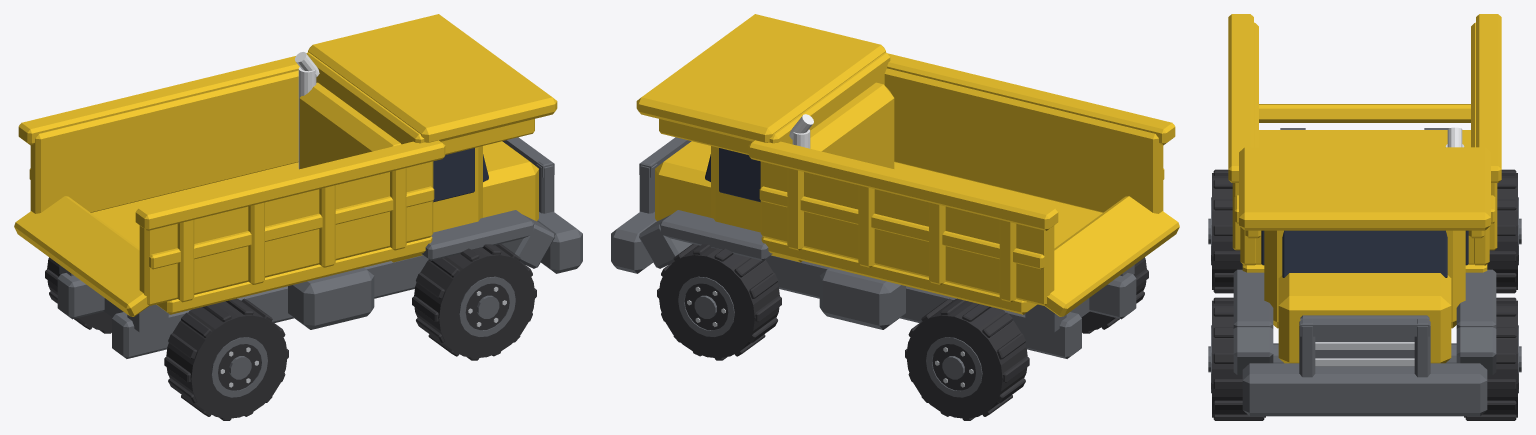
The model's file is model_dump_truck.glb.
The picture shows the model from 3 angles, left to right: view 1: azimuth 30°, elevation 25°; view 2: azimuth 150°, elevation 25°; view 3: azimuth 270°, elevation 25°; orthographic projection. The views are drawn at different scales.
Parts seen in each view (by area): view 1: tipper_bed, chassis, wheel_rr, wheel_fr, wheel_rl; view 2: tipper_bed, chassis, wheel_rl, wheel_fl, wheel_rr; view 3: chassis, tipper_bed, wheel_fl, wheel_fr, wheel_rl, wheel_rr.
Part boxes in pixels (<box>): tipper_bed: <box>14,14,557,316</box>; chassis: <box>57,52,582,358</box>; wheel_rr: <box>164,298,288,420</box>; wheel_fr: <box>412,244,536,360</box>; wheel_rl: <box>45,257,112,333</box>; tipper_bed: <box>636,14,1179,316</box>; chassis: <box>611,82,1136,358</box>; wheel_rl: <box>905,298,1029,420</box>; wheel_fl: <box>657,244,781,360</box>; wheel_rr: <box>1081,257,1148,333</box>; chassis: <box>1233,127,1496,416</box>; tipper_bed: <box>1228,14,1501,272</box>; wheel_fl: <box>1464,297,1521,420</box>; wheel_fr: <box>1208,297,1265,420</box>; wheel_rl: <box>1487,169,1521,293</box>; wheel_rr: <box>1208,169,1242,293</box>.
Bounding box in the file's own units: 0.7767 × 0.3877 × 0.435.
